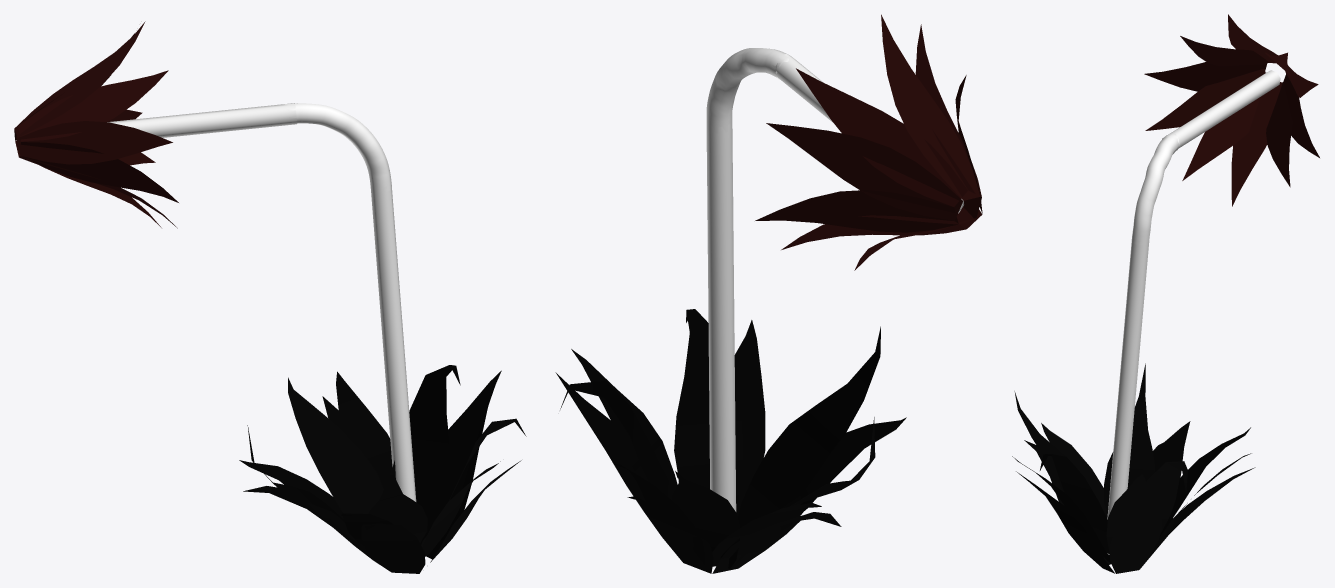
3 views of the same model, side by side, from view 1: azimuth 30°, elevation 25°; view 2: azimuth 150°, elevation 25°; view 3: azimuth 270°, elevation 25° (orthographic). The views are drawn at different scales.
Parts seen in each view (by area): view 1: brush_Petal_g1_b0, brush_Icing_g1_b0; view 2: brush_Petal_g1_b0, brush_Icing_g1_b0; view 3: brush_Petal_g1_b0, brush_Icing_g1_b0.
Boxes of the visible parts, x1,y1,x2,y2 form: brush_Petal_g1_b0: (14, 21, 526, 573); brush_Icing_g1_b0: (107, 103, 416, 501); brush_Petal_g1_b0: (555, 14, 982, 573); brush_Icing_g1_b0: (706, 48, 963, 511); brush_Petal_g1_b0: (1012, 14, 1319, 573); brush_Icing_g1_b0: (1107, 70, 1280, 554).
Bounding box in the file's own units: 6.26 × 7.92 × 4.71.
